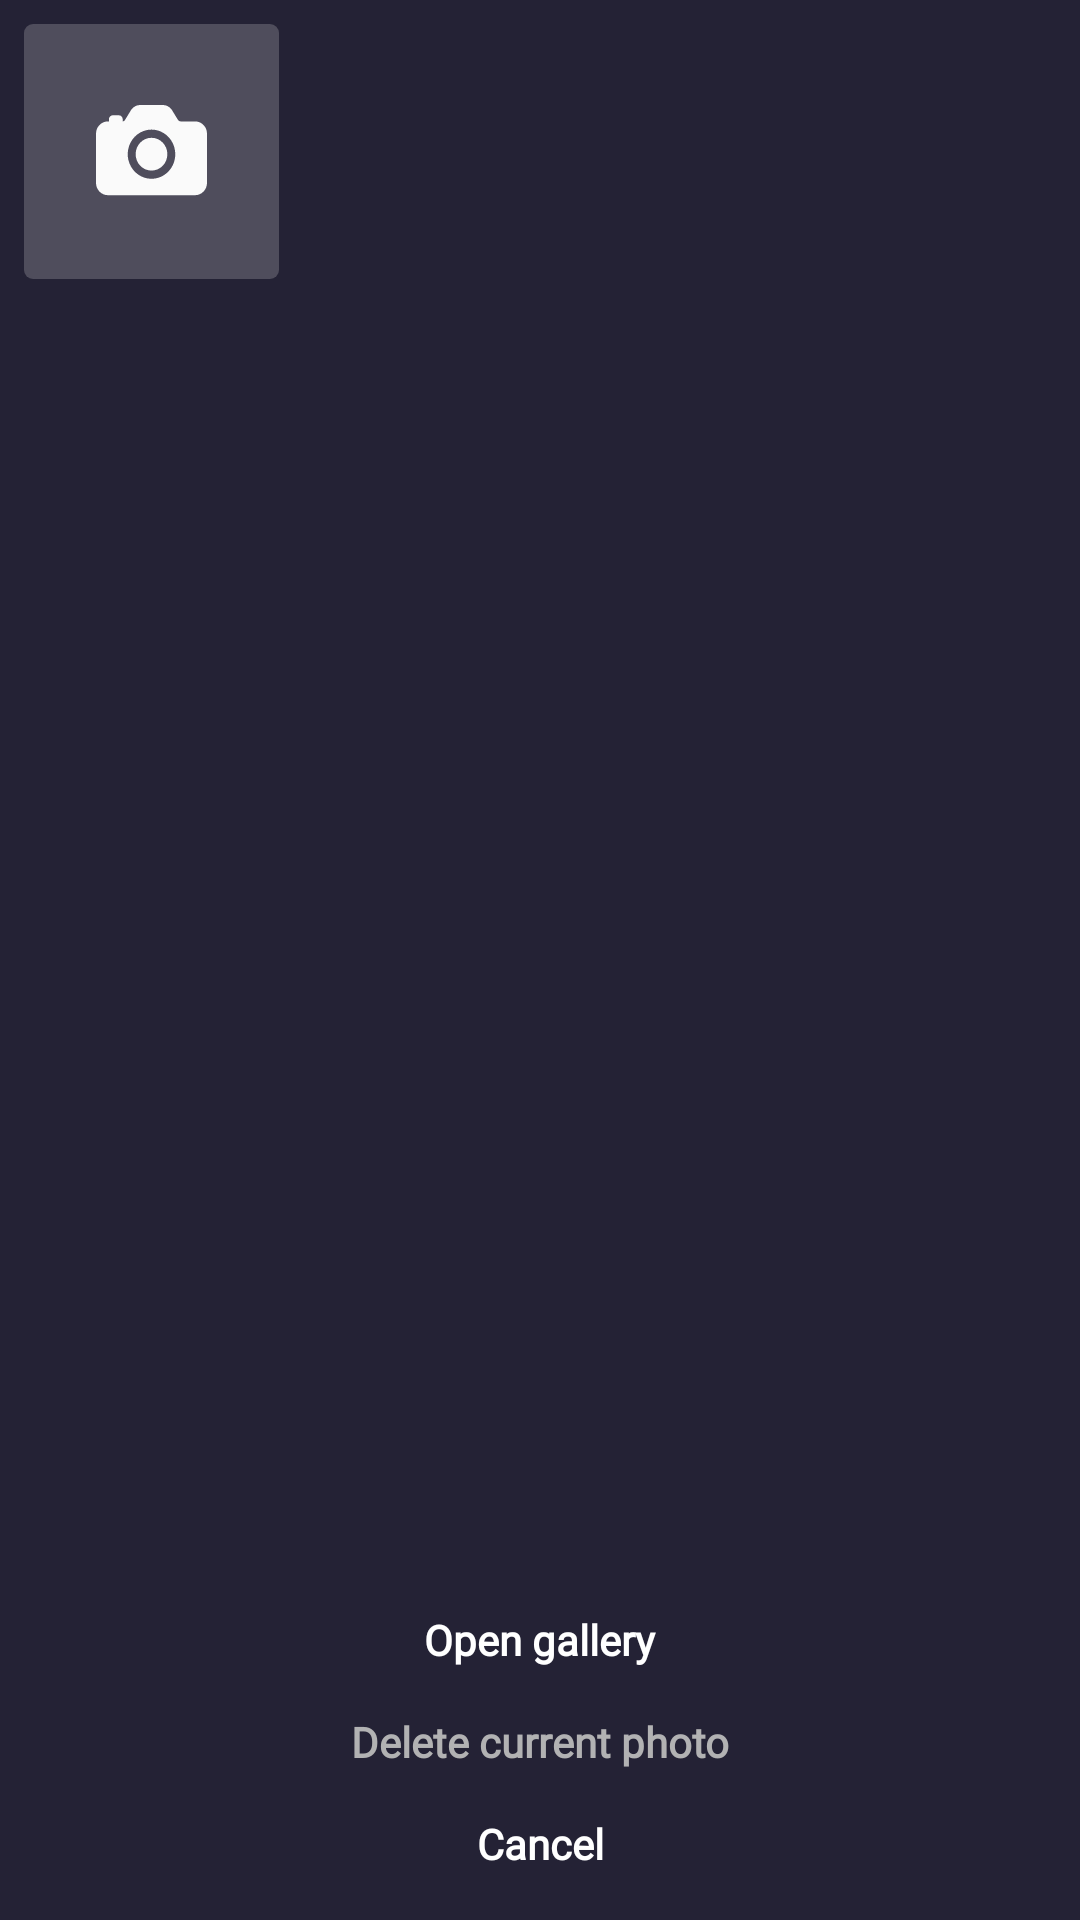

Where to tap for icons on this 1080w x 1920h app screen, as point (x, y):
camera: point (151, 151)
